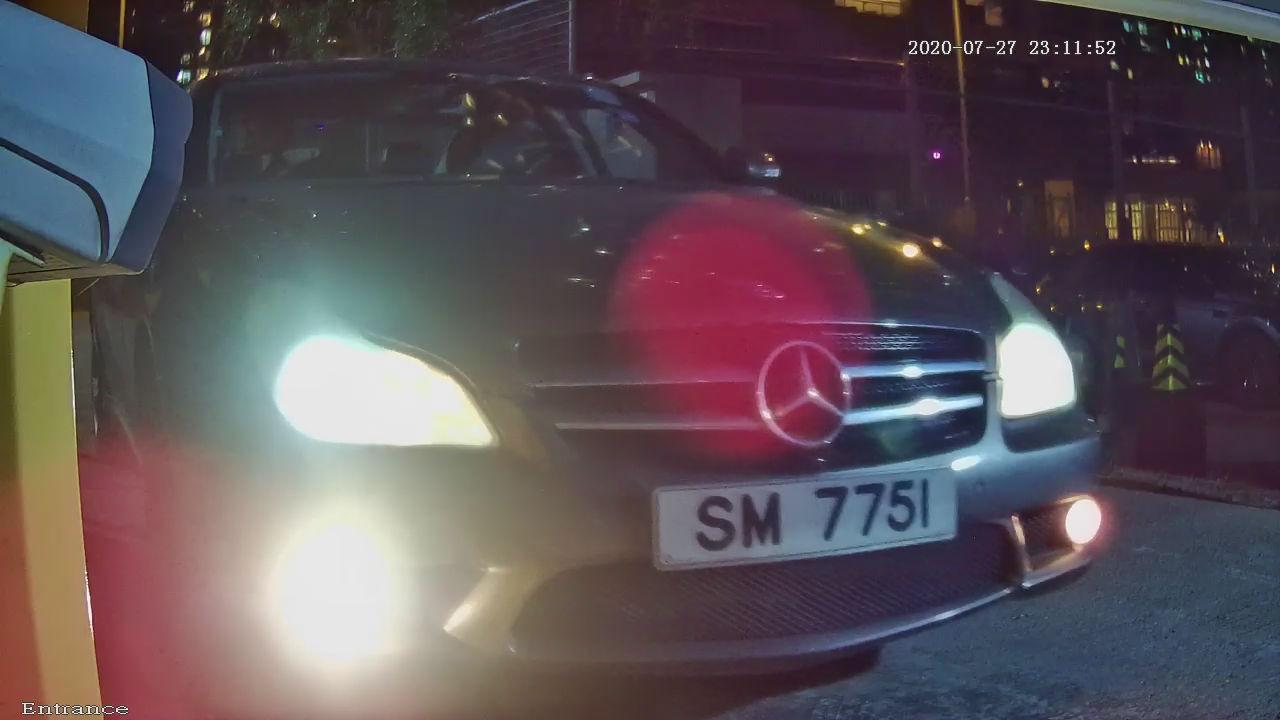privatecar: (122, 52, 1114, 667)
